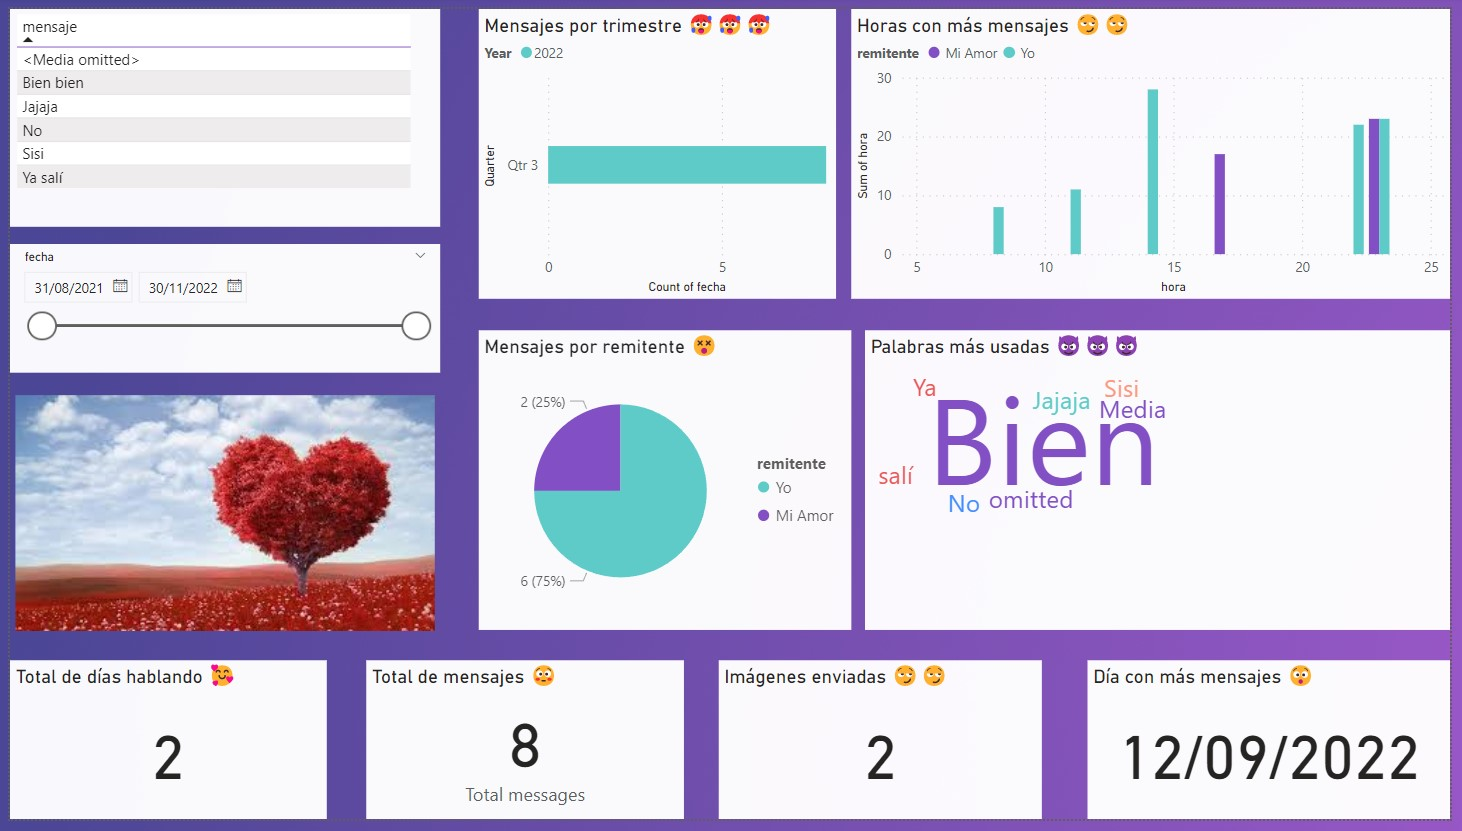

The page's visual inventory and layout, read from the dashboard file:
{"tool":"powerbi","page":{"name":"Análisis de WSP","canvas":[1280,720],"ordinal":0},"visuals":[{"type":"clusteredColumnChart","title":"Horas con más mensajes 😏😏","fields":{"Category":["output.hora","output.remitente"],"Y":["Sum(output.hora)"],"Series":["output.remitente"]},"box":[747.5,0,532.5,257.5],"z":0},{"type":"WordCloud1447959067750","title":"Palabras más usadas 😈😈😈","fields":{"Category":["output.mensaje"]},"box":[760,285,520,266.2],"z":1000},{"type":"card","title":"Total de días hablando 🥰","fields":{"Values":["Count(output.fecha)"]},"box":[0,578.8,281.2,141.2],"z":2000},{"type":"card","title":"Día con más mensajes 😯","fields":{"Values":["output.Top Date"]},"box":[957.5,578.8,322.5,141.2],"z":3000},{"type":"card","title":"Total de mensajes 😳","fields":{"Values":["output.Total messages"]},"box":[316.2,578.8,282.5,141.2],"z":4000},{"type":"card","title":"Imágenes enviadas 😏😏","fields":{"Values":["CountNonNull(output.mensaje)"]},"box":[630,578.8,287.5,141.2],"z":5000},{"type":"slicer","fields":{"Values":["output.fecha"]},"box":[0,208.9,382.2,114.4],"z":6000},{"type":"pieChart","title":"Mensajes por remitente 😵","fields":{"Category":["output.remitente"],"Y":["CountNonNull(output.mensaje)"]},"box":[416.2,285,331.2,266.2],"z":7000},{"type":"clusteredBarChart","title":"Mensajes por trimestre 🥵🥵🥵","fields":{"Y":["CountNonNull(output.fecha)"],"Series":["output.fecha.Variation.Date Hierarchy.Year"],"Category":["output.fecha.Variation.Date Hierarchy.Quarter"]},"box":[416.2,0,317.5,257.5],"z":8000},{"type":"tableEx","fields":{"Values":["output.mensaje"]},"box":[0,0,382.2,193.3],"z":9000},{"type":"image","box":[0,334.4,382.2,227.8],"z":10000}]}

Visuals, with their boxes in screenshot pixels (x1, y1, x2, y2), scaled from the page's 1280x720 canvas onto the 1462x831 screenshot:
"Horas con más mensajes 😏😏" clusteredColumnChart: <region>854, 0, 1461, 297</region>
"Palabras más usadas 😈😈😈" WordCloud1447959067750: <region>868, 329, 1461, 636</region>
"Total de días hablando 🥰" card: <region>0, 668, 321, 830</region>
"Día con más mensajes 😯" card: <region>1094, 668, 1461, 830</region>
"Total de mensajes 😳" card: <region>361, 668, 684, 830</region>
"Imágenes enviadas 😏😏" card: <region>720, 668, 1048, 830</region>
slicer - output.fecha: <region>0, 241, 437, 373</region>
"Mensajes por remitente 😵" pieChart: <region>475, 329, 854, 636</region>
"Mensajes por trimestre 🥵🥵🥵" clusteredBarChart: <region>475, 0, 838, 297</region>
tableEx - output.mensaje: <region>0, 0, 437, 223</region>
image: <region>0, 386, 437, 649</region>
